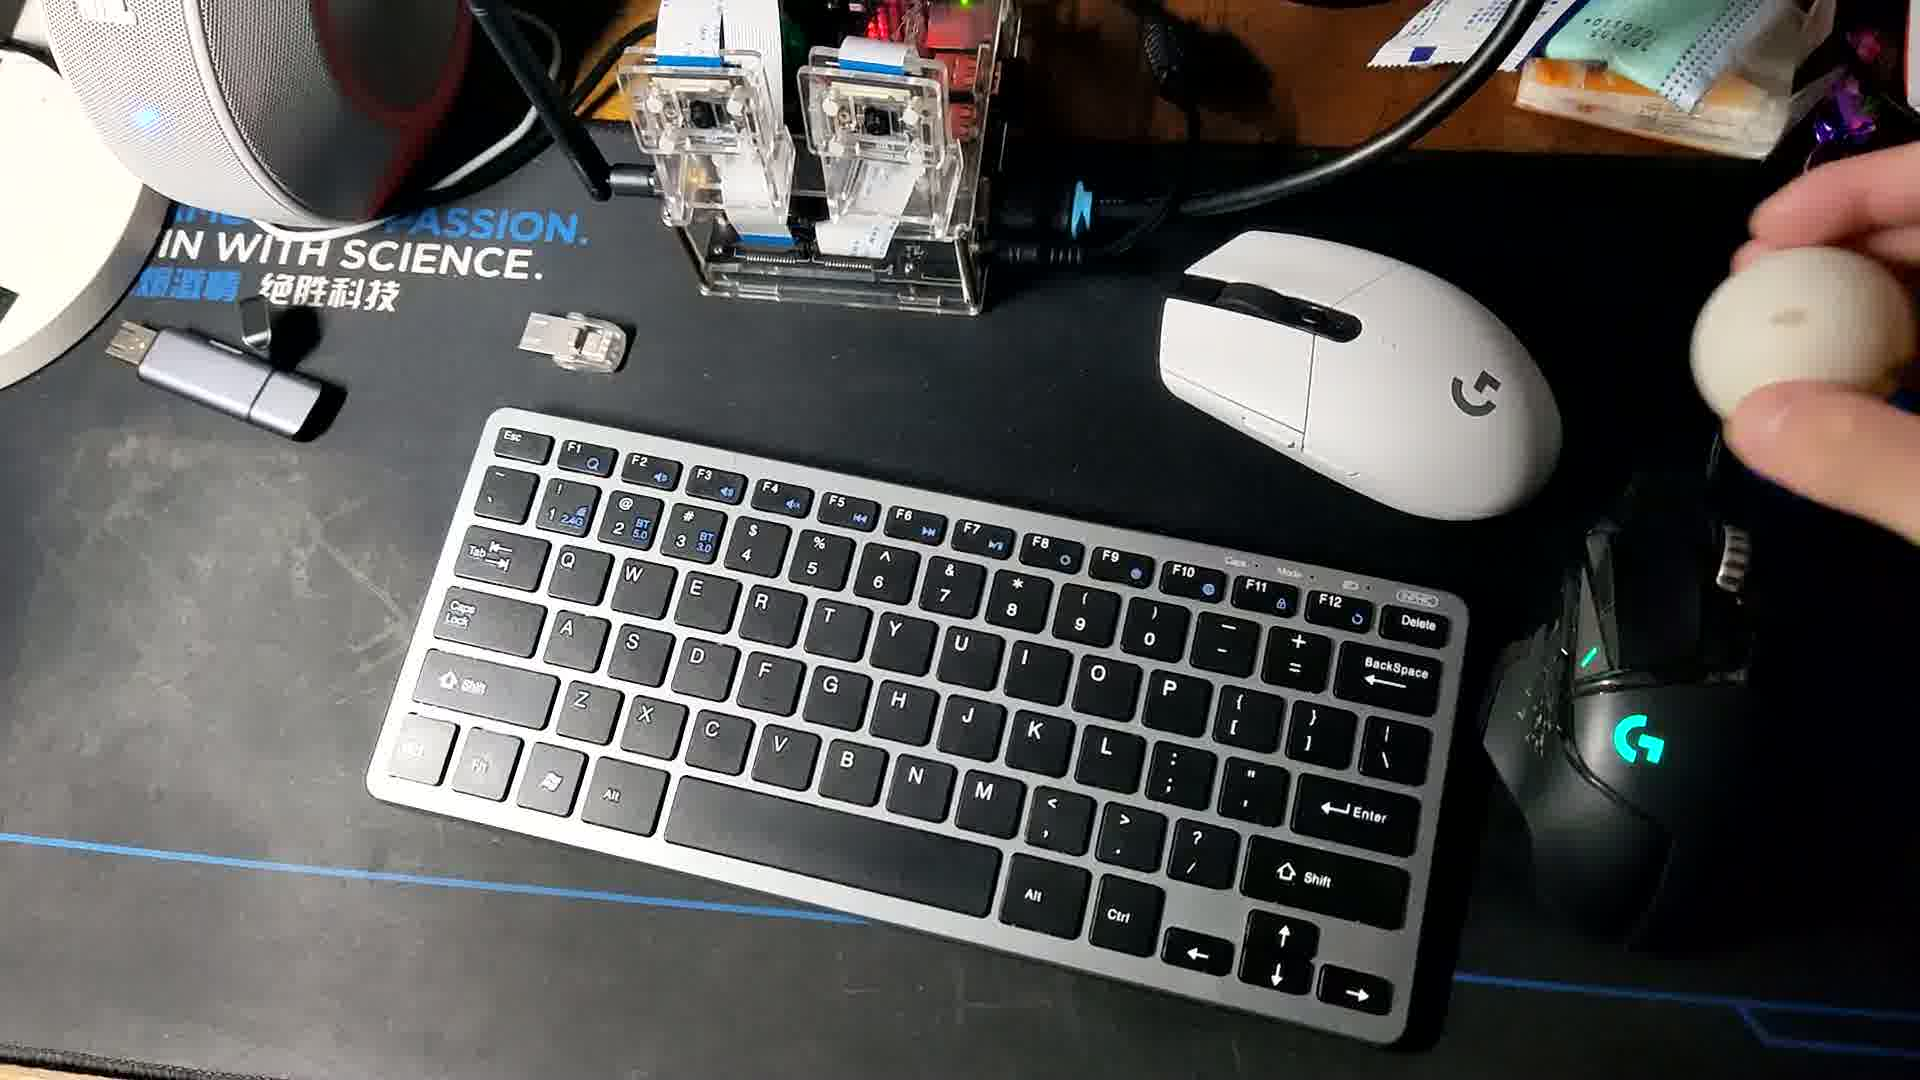Ball: (1685, 244, 1915, 459)
